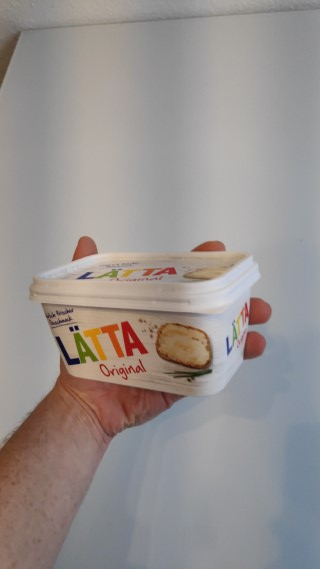laetta: (28, 250, 264, 397)
